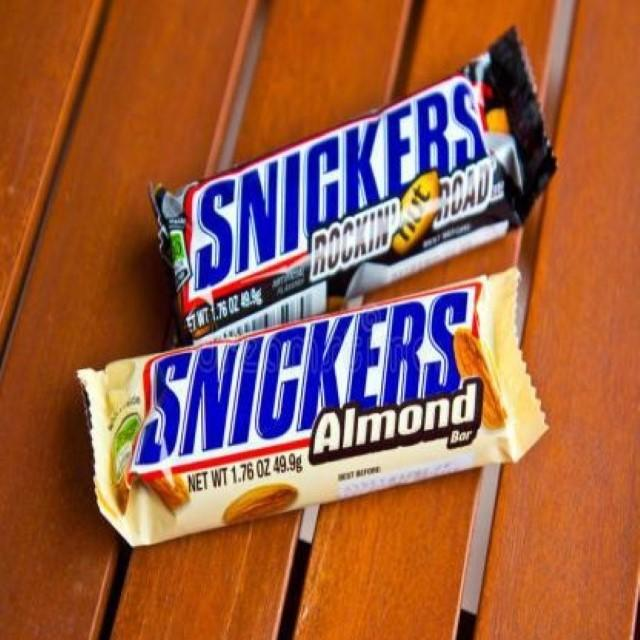snickers_chocolate: (85, 267, 562, 548), (188, 42, 530, 325)
